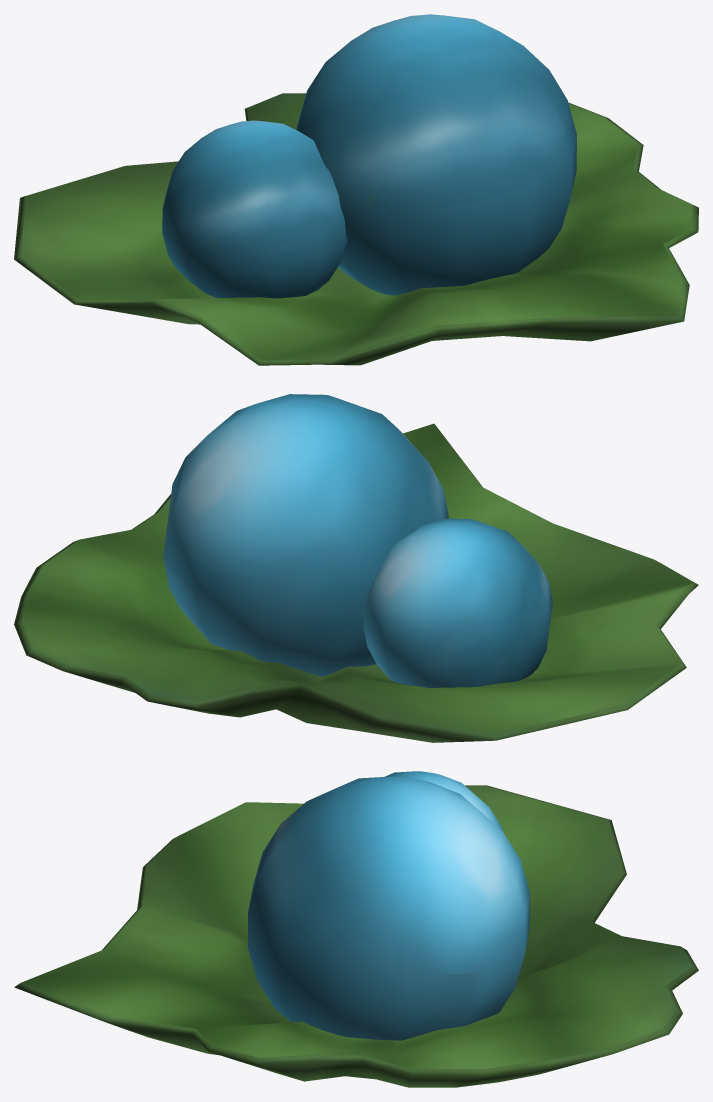
File: yaoping1.FBX
3 views of the same model, one above another, from view 1: azimuth 30°, elevation 25°; view 2: azimuth 150°, elevation 25°; view 3: azimuth 270°, elevation 25° (orthographic).
Parts seen in each view (by area): view 1: yaoping1; view 2: yaoping1; view 3: yaoping1.
Part boxes in pixels (x1,y1,x2,y2): yaoping1: (14, 14, 698, 365); yaoping1: (14, 394, 698, 742); yaoping1: (14, 771, 698, 1087).
Size of the model in its own units: 34.39 by 15.56 by 34.67.
Materials: 1 (1 with a texture image).
